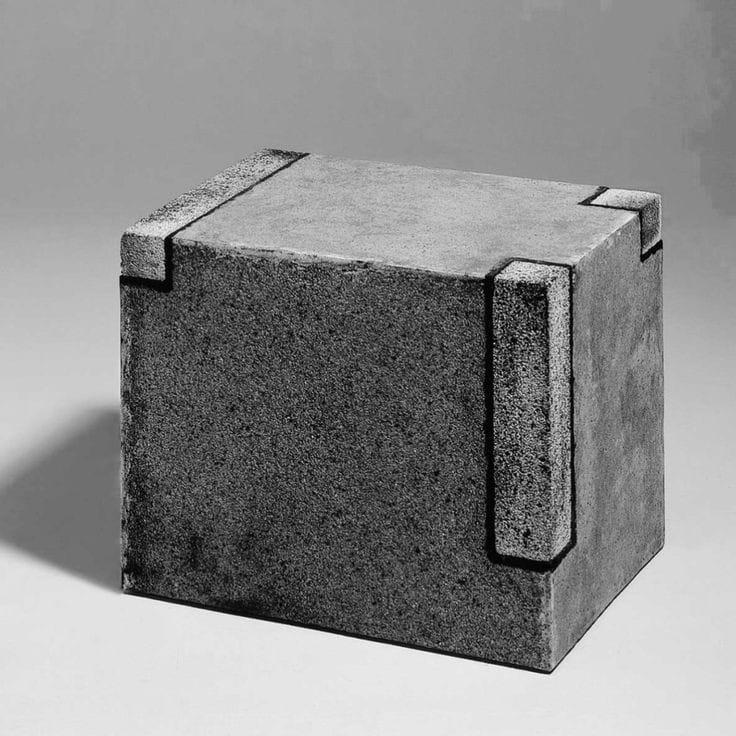cubos: (108, 130, 677, 685)
